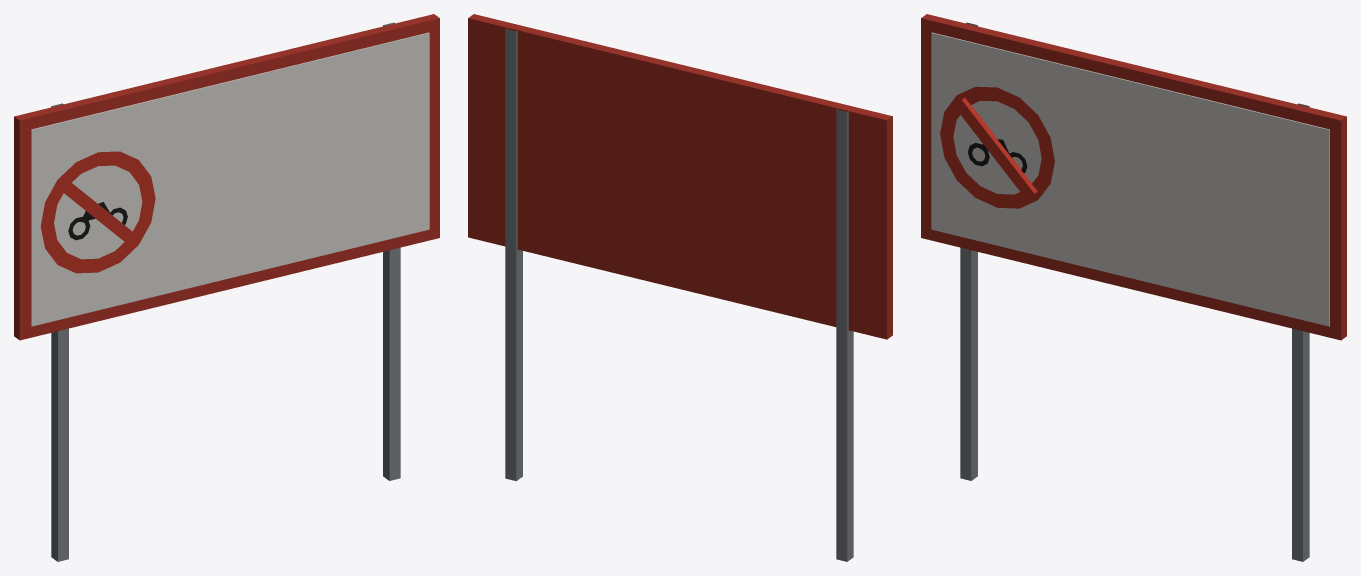
File: ns_bansign_lod1.glb
3 views of the same model, side by side, from view 1: azimuth 30°, elevation 25°; view 2: azimuth 150°, elevation 25°; view 3: azimuth 330°, elevation 25° (orthographic).
Visible parts, largest first — view 1: ns_bansign_lod1; view 2: ns_bansign_lod1; view 3: ns_bansign_lod1.
Boxes of the visible parts, x1,y1,x2,y2 form: ns_bansign_lod1: [14, 14, 439, 561]; ns_bansign_lod1: [468, 14, 892, 561]; ns_bansign_lod1: [921, 14, 1346, 561].
Size of the model in its own units: 3.8 by 3.9 by 0.176.
